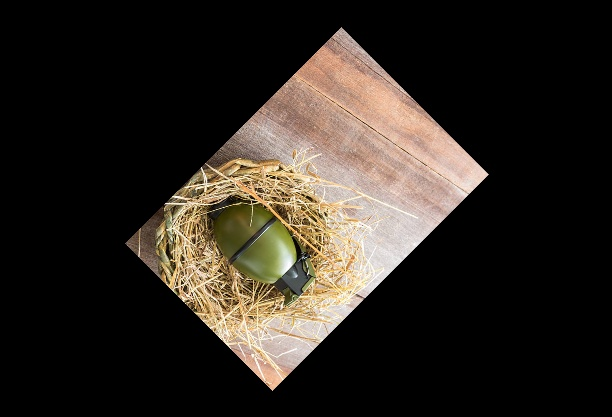e1: (205, 191, 318, 308)
